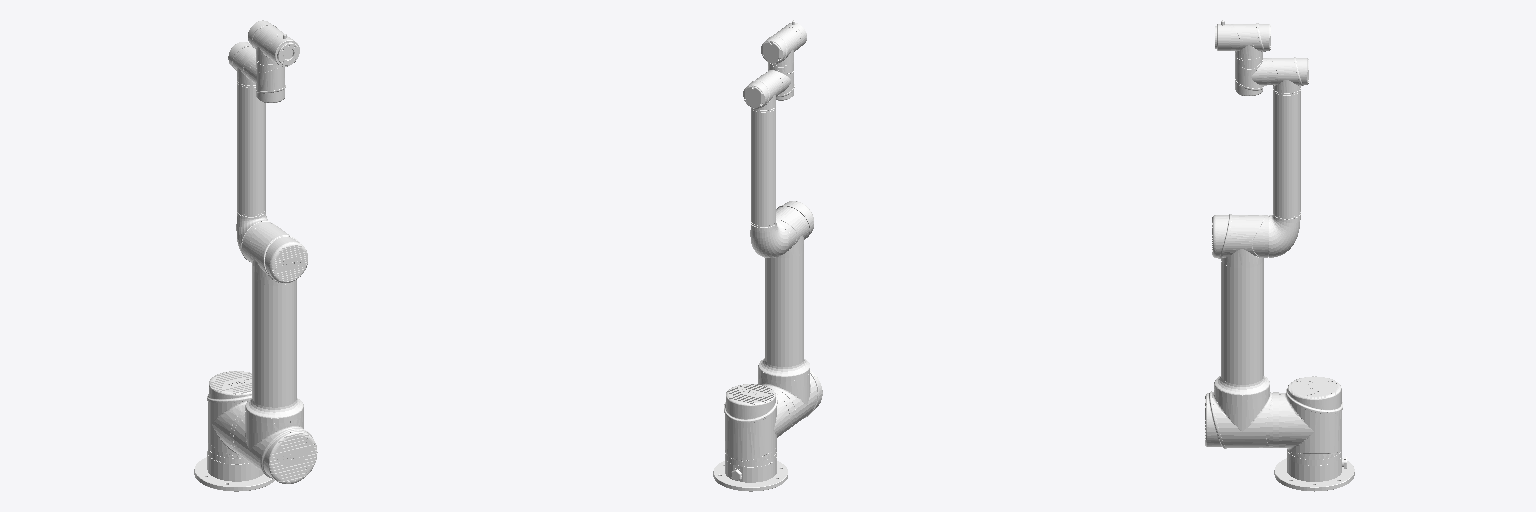
robot.urdf — aubo_i7:
<?xml version="1.0"?>
<robot name="aubo_i7">

  <link name="base_link">
    <inertial>
      <origin xyz="-2.75345668630019E-06 0.000547891465753963 0.0229897298786077" rpy="0 0 0" />
      <mass value="1.23448927826401" />
      <inertia ixx="0.00292145902952999" ixy="0" ixz="0" iyy="0.00285460086578132" iyz="0" izz="0.00511763852196614" />
    </inertial>
    <visual>
      <origin xyz="0 0 0" rpy="0 0 0" />
      <geometry>
        <mesh filename="package://aubo_description/meshes/aubo_i7/visual/base_link.DAE" />
      </geometry>
      <material name="">
        <color rgba="1 1 1 1" />
      </material>
    </visual>
    <collision>
      <origin xyz="0 0 0" rpy="0 0 0" />
      <geometry>
        <mesh filename="package://aubo_description/meshes/aubo_i7/collision/base_link.STL" />
      </geometry>
    </collision>
  </link>

  <link name="shoulder_Link">
    <inertial>
      <origin xyz="-6.50853007695337E-08 0.135998928947416 0.488739430865499" rpy="0 0 0" />
      <mass value="9.88740003439705" />
      <inertia ixx="1.68531464158185" ixy="0" ixz="0" iyy="1.6312909202194" iyz="-0.0333980127123753" izz="0.0704622230129338" />
    </inertial>
    <visual>
      <origin xyz="0 0 0" rpy="0 0 0" />
      <geometry>
        <mesh filename="package://aubo_description/meshes/aubo_i7/visual/shoulder_Link.DAE" />
      </geometry>
      <material name="">
        <color rgba="1 1 1 1" />
      </material>
    </visual>
    <collision>
      <origin xyz="0 0 0" rpy="0 0 0" />
      <geometry>
        <mesh filename="package://aubo_description/meshes/aubo_i7/collision/shoulder_Link.STL" />
      </geometry>
    </collision>
  </link>

  <joint name="shoulder_Joint" type="revolute">
    <origin xyz="0 0 0.1632" rpy="0 0 3.1416" />
    <parent link="base_link" />
    <child link="shoulder_Link" />
    <axis xyz="0 0 1" />
    <limit lower="-3.05" upper="3.05" effort="0" velocity="0" />
  </joint>

  <link name="upperArm_Link">
    <inertial>
      <origin xyz="0.279325571573325 -2.06516557500758E-09 0.019000010668443" rpy="0 0 0" />
      <mass value="4.46934833776782" />
      <inertia ixx="0.00809763894717882" ixy="0" ixz="0" iyy="0.0685086783255946" iyz="0" izz="0.068508678325595" />
    </inertial>
    <visual>
      <origin xyz="0 0 0" rpy="0 0 0" />
      <geometry>
        <mesh filename="package://aubo_description/meshes/aubo_i7/visual/upperArm_Link.DAE" />
      </geometry>
      <material name="">
        <color rgba="1 1 1 1" />
      </material>
    </visual>
    <collision>
      <origin xyz="0 0 0" rpy="0 0 0" />
      <geometry>
        <mesh filename="package://aubo_description/meshes/aubo_i7/collision/upperArm_Link.STL" />
      </geometry>
    </collision>
  </link>

  <joint name="upperArm_Joint" type="revolute">
    <origin xyz="0 0.178 0" rpy="-1.5708 -1.5708 0" />
    <parent link="shoulder_Link" />
    <child link="upperArm_Link" />
    <axis xyz="0 0 1" />
    <limit lower="-3.05" upper="3.05" effort="0" velocity="0" />
  </joint>

  <link name="foreArm_Link">
    <inertial>
      <origin xyz="0.254232713965427 1.38376838868665E-06 0.0999652623652588" rpy="0 0 0" />
      <mass value="2.88724337413486" />
      <inertia ixx="0.00271373525408076" ixy="0" ixz="-0.00181586983396916" iyy="0.091908507646727" iyz="0" izz="0.0915269529956772" />
    </inertial>
    <visual>
      <origin  xyz="0 0 0" rpy="0 0 0" />
      <geometry>
        <mesh filename="package://aubo_description/meshes/aubo_i7/visual/foreArm_Link.DAE" />
      </geometry>
      <material name="">
        <color rgba="1 1 1 1" />
      </material>
    </visual>
    <collision>
      <origin xyz="0 0 0" rpy="0 0 0" />
      <geometry>
        <mesh filename="package://aubo_description/meshes/aubo_i7/collision/foreArm_Link.STL" />
      </geometry>
    </collision>
  </link>

  <joint name="foreArm_Joint" type="revolute">
    <origin xyz="0.552 0 0" rpy="3.1416 -4.5109E-17 5.3152E-17" />
    <parent link="upperArm_Link" />
    <child link="foreArm_Link" />
    <axis xyz="0 0 -1" />
    <limit lower="-3.05" upper="3.05" effort="0" velocity="0" />
  </joint>

  <link name="wrist1_Link">
    <inertial>
      <origin xyz="5.2305022753274E-07 0.000265807529940432 -0.00278940914757794" rpy="0 0 0" />
      <mass value="0.579814564711146" />
      <inertia ixx="0.000883361676138697" ixy="0" ixz="0" iyy="0.000461183849113603" iyz="0" izz="0.000853359776669353" />
    </inertial>
    <visual>
      <origin xyz="0 0 0" rpy="0 0 0" />
      <geometry>
        <mesh filename="package://aubo_description/meshes/aubo_i7/visual/wrist1_Link.DAE" />
      </geometry>
      <material name="">
        <color rgba="1 1 1 1" />
      </material>
    </visual>
    <collision>
      <origin xyz="0 0 0" rpy="0 0 0" />
      <geometry>
        <mesh filename="package://aubo_description/meshes/aubo_i7/collision/wrist1_Link.STL" />
      </geometry>
    </collision>
  </link>

  <joint name="wrist1_Joint" type="revolute">
    <origin xyz="0.495 0 0" rpy="-3.1416 6.218E-17 1.5708" />
    <parent link="foreArm_Link" />
    <child link="wrist1_Link" />
    <axis xyz="0 0 1" />
    <limit lower="-3.05" upper="3.05" effort="0" velocity="0" />
  </joint>

  <link name="wrist2_Link">
    <inertial>
      <origin xyz="-5.23040724996829E-07 -0.000265807507557142 -0.0027894091445122" rpy="0 0 0" />
      <mass value="0.579814565182749" />
      <inertia ixx="0.000883361677951562" ixy="0" ixz="0" iyy="0.000461183849343313" iyz="0" izz="0.000853359778766626" />
    </inertial>
    <visual>
      <origin xyz="0 0 0" rpy="0 0 0" />
      <geometry>
        <mesh filename="package://aubo_description/meshes/aubo_i7/visual/wrist2_Link.DAE" />
      </geometry>
      <material name="">
        <color rgba="1 1 1 1" />
      </material>
    </visual>
    <collision>
      <origin xyz="0 0 0" rpy="0 0 0" />
      <geometry>
        <mesh filename="package://aubo_description/meshes/aubo_i7/collision/wrist2_Link.STL" />
      </geometry>
    </collision>
  </link>

  <joint name="wrist2_Joint" type="revolute">
    <origin xyz="0 0.1025 0" rpy="-1.5708 1.8013E-15 1.1102E-16" />
    <parent link="wrist1_Link" />
    <child link="wrist2_Link" />
    <axis xyz="0 0 1" />
    <limit lower="-3.05" upper="3.05" effort="0"  velocity="0" />
  </joint>

  <link name="wrist3_Link">
    <inertial>
      <origin xyz="-2.08101982434455E-09 0.000237217213482577 -0.0186290249193545" rpy="0 0 0" />
      <mass value="0.136689987013058" />
      <inertia ixx="6.09458459127013E-05" ixy="0" ixz="0" iyy="5.95012871766086E-05" iyz="0" izz="9.69807399718183E-05" />
    </inertial>
    <visual>
      <origin xyz="0 0 0" rpy="0 0 0" />
      <geometry>
        <mesh filename="package://aubo_description/meshes/aubo_i7/visual/wrist3_Link.DAE" />
      </geometry>
      <material name="">
        <color rgba="1 1 1 1" />
      </material>
    </visual>
    <collision>
      <origin xyz="0 0 0" rpy="0 0 0" />
      <geometry>
        <mesh filename="package://aubo_description/meshes/aubo_i7/collision/wrist3_Link.STL" />
      </geometry>
    </collision>
  </link>

  <joint name="wrist3_Joint" type="revolute">
    <origin xyz="0 -0.094 0" rpy="1.5708 2.3924E-46 8.0871E-17" />
    <parent link="wrist2_Link" />
    <child link="wrist3_Link" />
    <axis xyz="0 0 1" />
    <limit lower="-3.05" upper="3.05" effort="0" velocity="0" />
  </joint>

  <link name="world" />
  <joint name="world_joint" type="fixed">
    <parent link="world" />
    <child link = "base_link" />
    <origin xyz="0.0 0.0 0.0" rpy="0.0 0.0 0.0" />
  </joint>

</robot>

--- Render facts (derived) ---
Views: 3 orthographic renders of the robot side by side, from view 1: azimuth 30°, elevation 25°; view 2: azimuth 150°, elevation 25°; view 3: azimuth 270°, elevation 25°.
Robot: aubo_i7 — 8 links, 7 joints (6 revolute, 1 fixed); root link world; default pose: all joints at 0.
Visible links, largest first — view 1: upperArm_Link, foreArm_Link, shoulder_Link, base_link, wrist1_Link, wrist2_Link, wrist3_Link; view 2: upperArm_Link, foreArm_Link, shoulder_Link, base_link, wrist2_Link, wrist1_Link; view 3: upperArm_Link, foreArm_Link, shoulder_Link, base_link, wrist2_Link, wrist1_Link.
Boxes of the visible links, x1,y1,x2,y2 form: upperArm_Link: (230, 222, 317, 483); foreArm_Link: (228, 42, 274, 261); shoulder_Link: (207, 371, 251, 464); base_link: (194, 451, 274, 491); wrist1_Link: (249, 59, 285, 102); wrist2_Link: (248, 20, 283, 63); wrist3_Link: (269, 34, 299, 66); upperArm_Link: (758, 201, 822, 431); foreArm_Link: (743, 71, 788, 257); shoulder_Link: (724, 384, 789, 466); base_link: (713, 458, 787, 491); wrist2_Link: (761, 27, 801, 65); wrist1_Link: (768, 62, 794, 100); upperArm_Link: (1205, 214, 1278, 448); foreArm_Link: (1267, 57, 1308, 257); shoulder_Link: (1279, 376, 1342, 465); base_link: (1274, 455, 1354, 491); wrist2_Link: (1229, 23, 1270, 58); wrist1_Link: (1235, 54, 1266, 95).
Bounding box of the posed robot: 0.219 × 0.4075 × 1.36 m (x, y, z).
7 mesh visuals loaded from 7 distinct referenced files (7 Collada DAE).